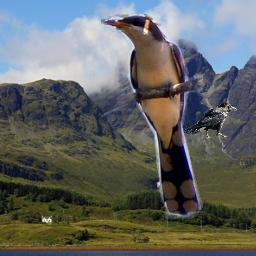Crow: (184, 102, 237, 140)
Cuckoo: (101, 14, 203, 219)
